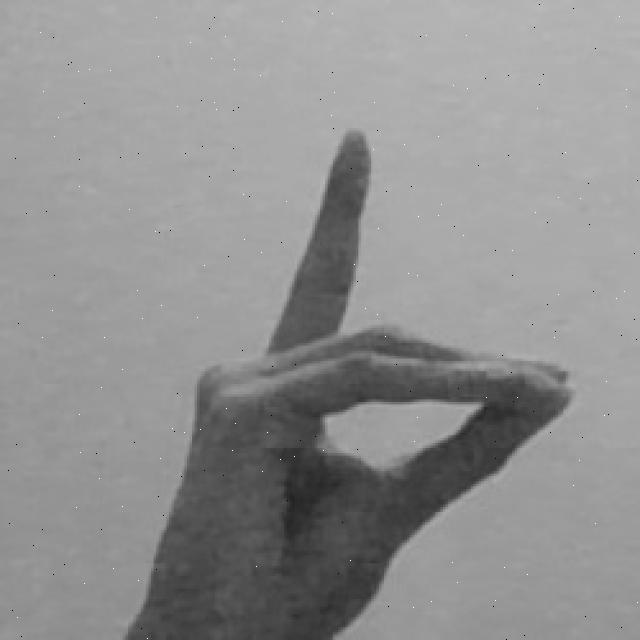D: (125, 118, 586, 640)
